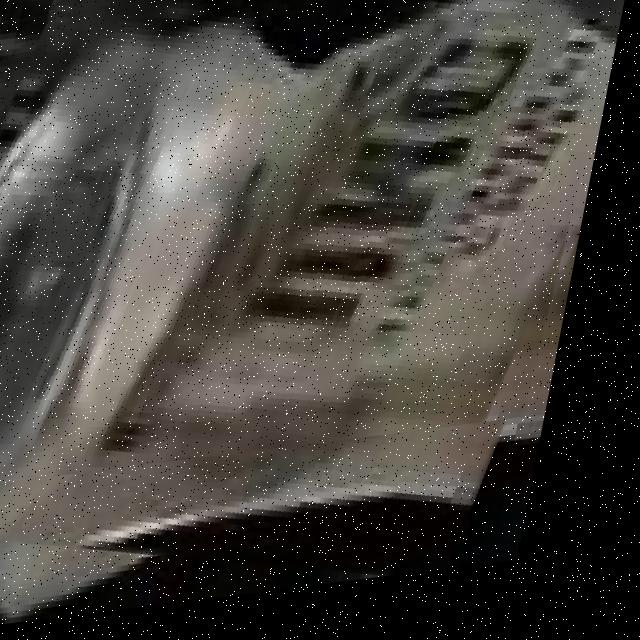can: (0, 0, 622, 460)
